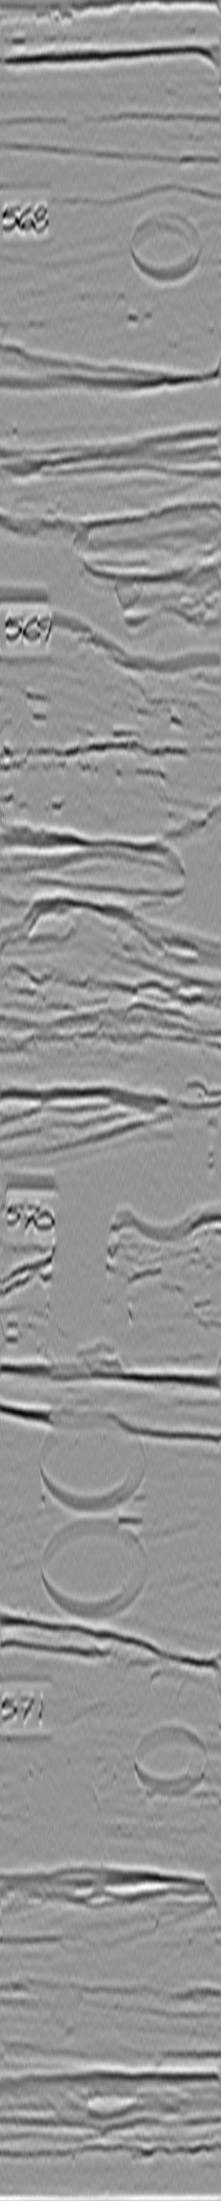hplug: (127, 1720, 213, 1801), (125, 204, 208, 286), (125, 1195, 206, 1251)
scal: (38, 1515, 156, 1621), (37, 1405, 153, 1512)
vplug: (37, 1195, 125, 1371), (34, 1720, 111, 1880)
